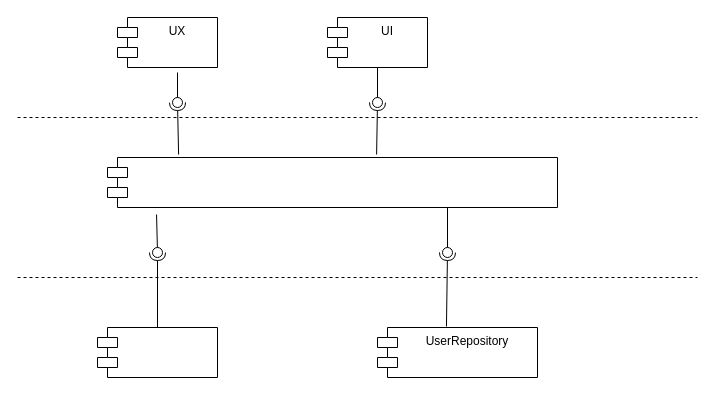
Image size: 716x395. Some labels were removed from this diagram. The shapes that lost their labels are listed below. From the top down, each one's centre as x and y in pixels, then its label:
[332,182]: App Controller
[157,352]: DBRepository
